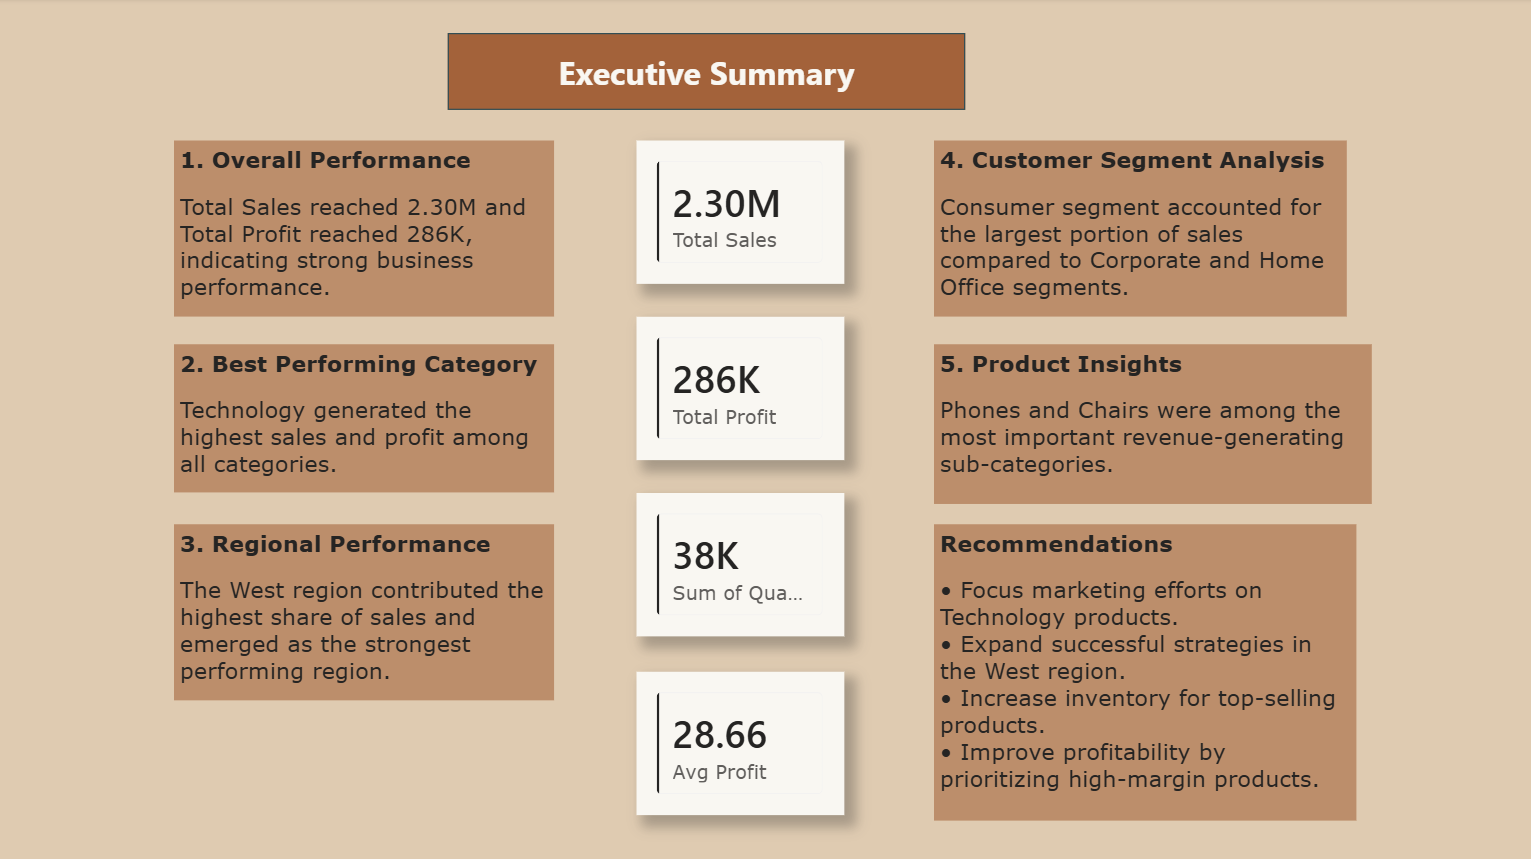

The dashboard page shown, as its layout file describes it:
{"tool":"powerbi","page":{"name":"Business Insights Storyboard","canvas":[1280,720],"ordinal":1},"visuals":[{"type":"shape","box":[376.7,29.1,430.2,64],"z":0},{"type":"textbox","box":[150,118.6,316.3,146.5],"z":1000},{"type":"textbox","box":[150,288.4,316.3,123.3],"z":2000},{"type":"textbox","box":[150,437.2,316.3,146.5],"z":3000},{"type":"textbox","box":[781.4,118.6,343,146.5],"z":4000},{"type":"textbox","box":[781.4,288.4,364,132.6],"z":5000},{"type":"textbox","box":[781.4,437.2,351.2,246.5],"z":6000},{"type":"cardVisual","fields":{"Data":["Sum(SampleSuperstore.Sales)"]},"box":[533.8,118,172.9,119.4],"z":7000},{"type":"cardVisual","fields":{"Data":["Sum(SampleSuperstore.Profit)"]},"box":[533.8,264.8,172.9,119.4],"z":8000},{"type":"cardVisual","fields":{"Data":["Sum(SampleSuperstore.Quantity)"]},"box":[533.8,411.7,172.9,119.4],"z":9000},{"type":"cardVisual","fields":{"Data":["SampleSuperstore.Avg Profit"]},"box":[533.8,559.9,172.9,119.4],"z":10000}]}

Visuals, with their boxes in screenshot pixels (x1, y1, x2, y2), scaled from the page's 1280x720 canvas onto the 1531x859 screenshot:
shape: 451, 35, 965, 111
textbox: 179, 141, 558, 316
textbox: 179, 344, 558, 491
textbox: 179, 522, 558, 696
textbox: 935, 141, 1345, 316
textbox: 935, 344, 1370, 502
textbox: 935, 522, 1355, 816
cardVisual - Sum(SampleSuperstore.Sales): 638, 141, 845, 283
cardVisual - Sum(SampleSuperstore.Profit): 638, 316, 845, 458
cardVisual - Sum(SampleSuperstore.Quantity): 638, 491, 845, 634
cardVisual - SampleSuperstore.Avg Profit: 638, 668, 845, 810
